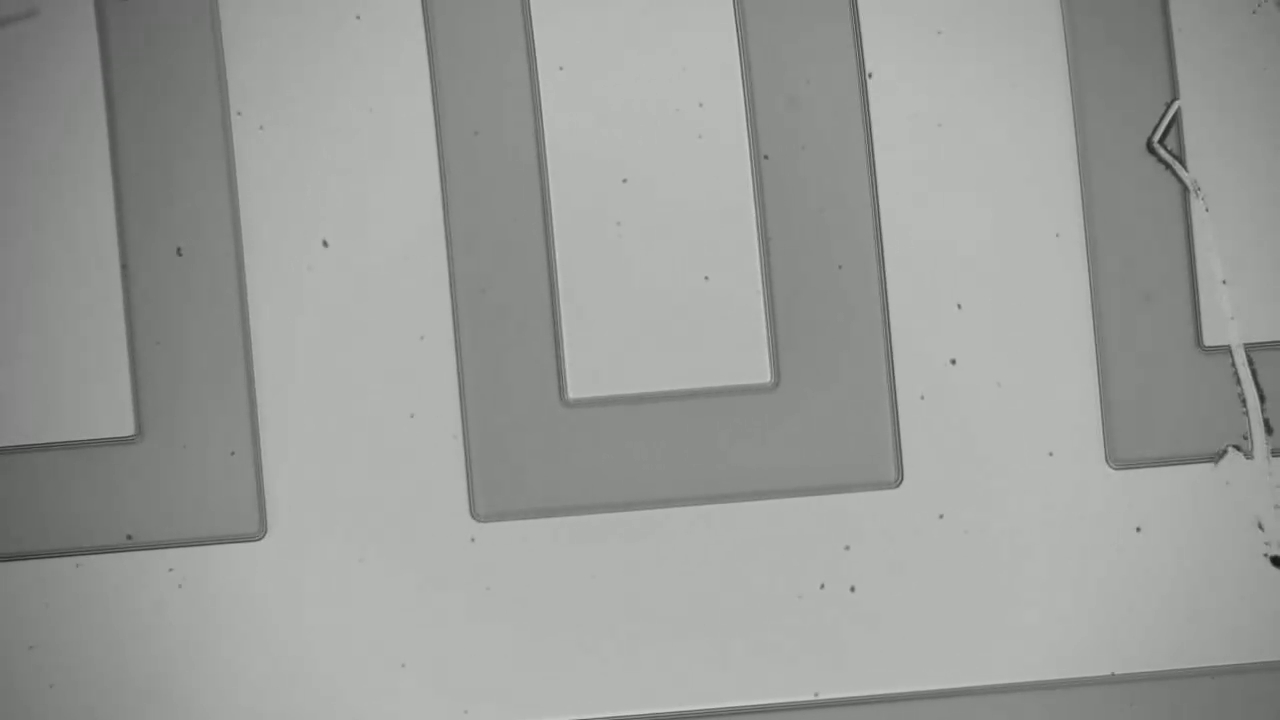Short_circuit: (1212, 331, 1280, 479)
